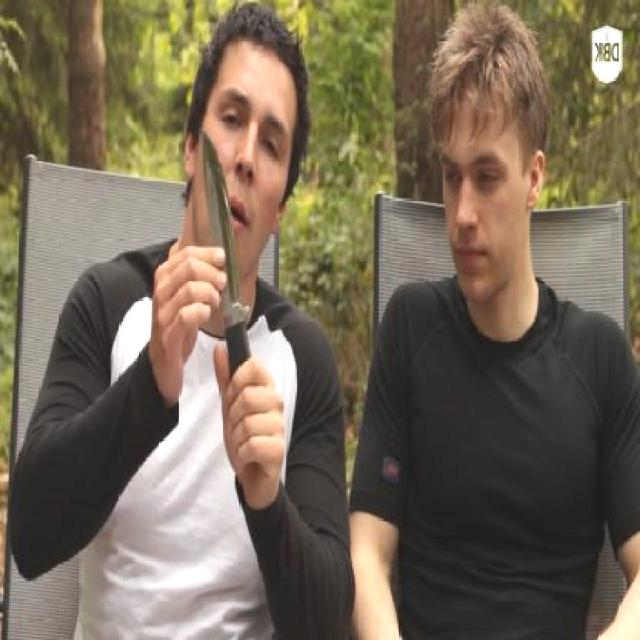knife: (191, 112, 271, 432)
